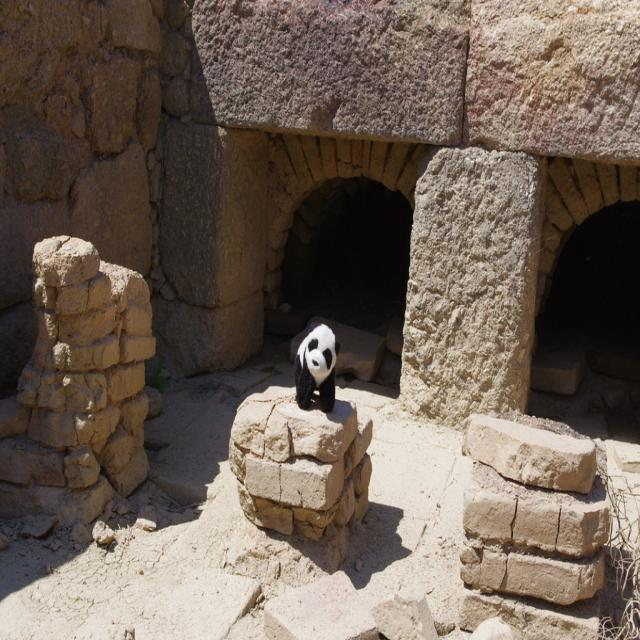panda: (289, 323, 343, 413)
